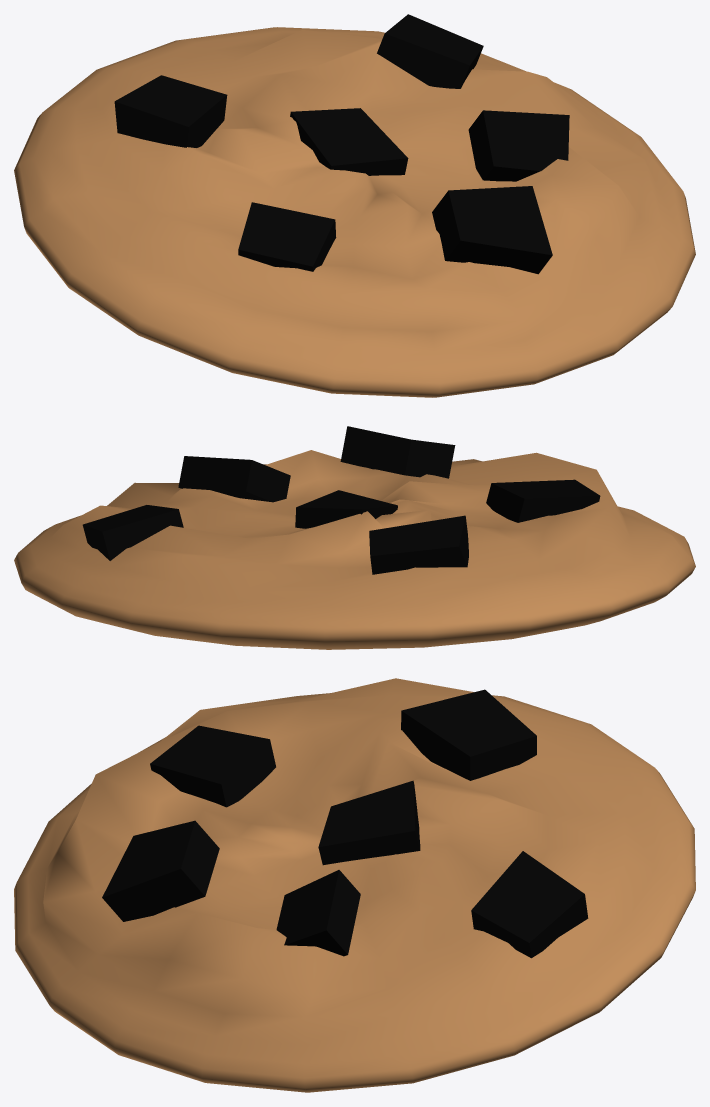
The model's file is Cookiev2.fbx.
3 views of the same model, one above another, from view 1: azimuth 30°, elevation 25°; view 2: azimuth 150°, elevation 25°; view 3: azimuth 270°, elevation 25° (orthographic). The views are drawn at different scales.
Visible parts, largest first — view 1: CookieMesh; view 2: CookieMesh; view 3: CookieMesh.
Boxes of the visible parts, x1,y1,x2,y2 form: CookieMesh: (14, 14, 695, 397); CookieMesh: (14, 426, 695, 649); CookieMesh: (14, 678, 695, 1092).
Bounding box in the file's own units: 1.8 × 0.4958 × 1.63.
